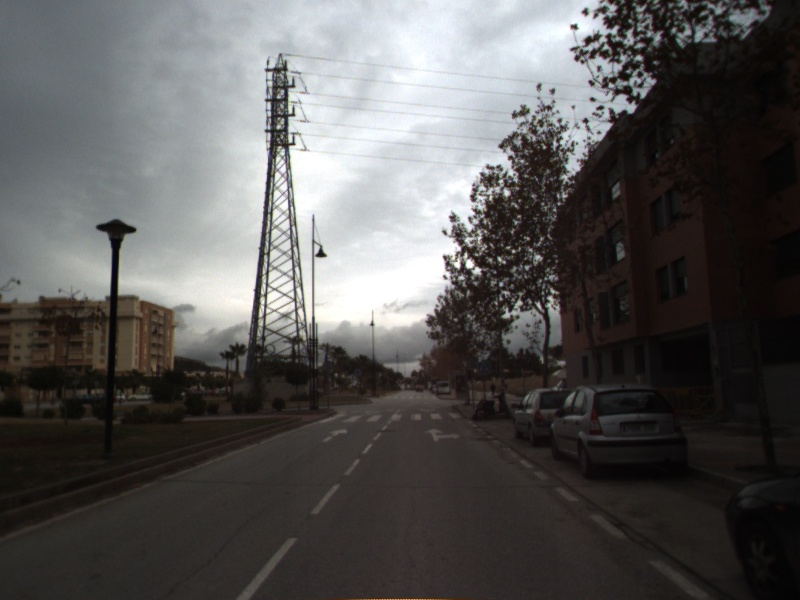STRAIGHT: (319, 426, 350, 445)
STRAIGHT_RIGHT: (422, 426, 463, 444)
